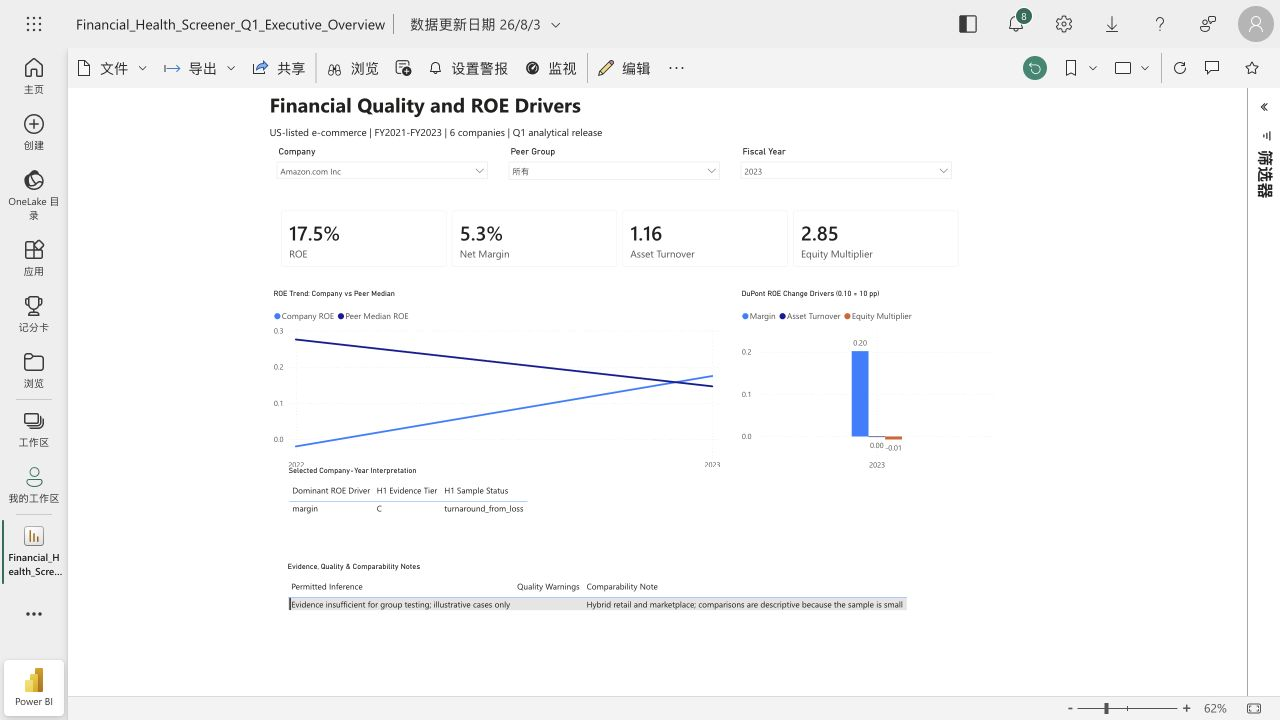

What the dashboard file says about the page in this screenshot:
{"tool":"powerbi","page":{"name":"Executive Overview","canvas":[1280,980],"ordinal":0},"visuals":[{"type":"textbox","box":[9.5,0,522.1,55.4],"z":0},{"type":"textbox","box":[9.5,55.4,547.4,34.8],"z":1},{"type":"slicer","fields":{"Values":["q1_powerbi_mart.company_name"]},"box":[16,90,360,70],"z":2},{"type":"slicer","fields":{"Values":["q1_powerbi_mart.analysis_peer_group"]},"box":[390,90,360,70],"z":4},{"type":"slicer","fields":{"Values":["q1_powerbi_mart.fiscal_year"]},"box":[764,90,360,70],"z":5},{"type":"cardVisual","fields":{"Data":["Max(q1_powerbi_mart.roe)","Max(q1_powerbi_mart.net_margin)","Max(q1_powerbi_mart.asset_turnover)","Max(q1_powerbi_mart.equity_multiplier)"]},"box":[16,180,1128,125],"z":6},{"type":"lineChart","title":"ROE Trend: Company vs Peer Median","fields":{"Category":["q1_powerbi_mart.fiscal_year"],"Y":["Sum(q1_powerbi_mart.roe)","Sum(q1_powerbi_mart.peer_median_roe)"]},"box":[16,325,730,300],"z":7},{"type":"clusteredColumnChart","title":"DuPont ROE Change Drivers (0.10 = 10 pp)","fields":{"Category":["q1_powerbi_mart.fiscal_year"],"Y":["Sum(q1_powerbi_mart.contribution_margin)","Sum(q1_powerbi_mart.contribution_turnover)","Sum(q1_powerbi_mart.contribution_multiplier)"]},"box":[770,325,420,300],"z":8},{"type":"tableEx","title":"Evidence, Quality & Comparability Notes","fields":{"Values":["q1_powerbi_mart.h1_permitted_inference","q1_powerbi_mart.quality_warnings","q1_powerbi_mart.comparability_note"]},"box":[39.4,765.2,1116.3,199.2],"z":12},{"type":"tableEx","title":"Selected Company-Year Interpretation","fields":{"Values":["q1_powerbi_mart.dominant_change_driver","q1_powerbi_mart.h1_evidence_tier","q1_powerbi_mart.h1_sample_status"]},"box":[40,611.6,891.4,132.1],"z":13}]}

Visuals, with their boxes on the page's 1280x980 design canvas (x1, y1, x2, y2). These are canvas units, not pixel positions in the 1280x720 screenshot, which may show the page scaled, cropped or inside an application window:
textbox: 10, 0, 532, 55
textbox: 10, 55, 557, 90
slicer - q1_powerbi_mart.company_name: 16, 90, 376, 160
slicer - q1_powerbi_mart.analysis_peer_group: 390, 90, 750, 160
slicer - q1_powerbi_mart.fiscal_year: 764, 90, 1124, 160
cardVisual - Max(q1_powerbi_mart.roe) x Max(q1_powerbi_mart.net_margin): 16, 180, 1144, 305
"ROE Trend: Company vs Peer Median" lineChart: 16, 325, 746, 625
"DuPont ROE Change Drivers (0.10 = 10 pp)" clusteredColumnChart: 770, 325, 1190, 625
"Evidence, Quality & Comparability Notes" tableEx: 39, 765, 1156, 964
"Selected Company-Year Interpretation" tableEx: 40, 612, 931, 744
